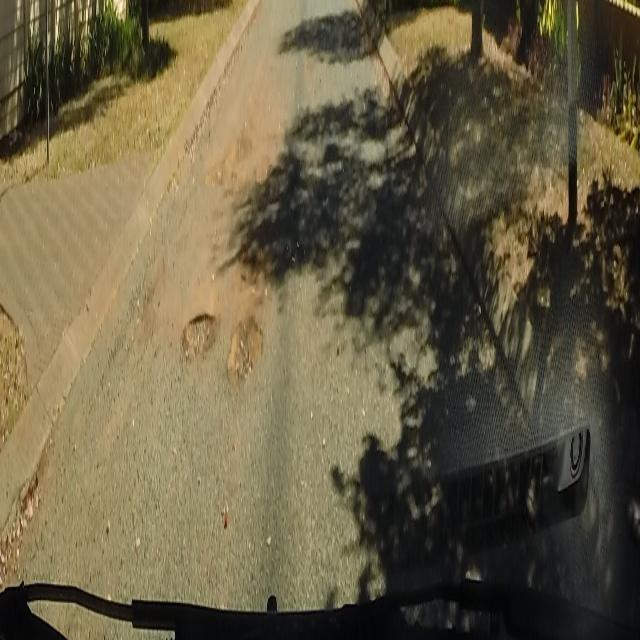pothole: (206, 122, 252, 207), (225, 300, 262, 401), (178, 308, 222, 364)
